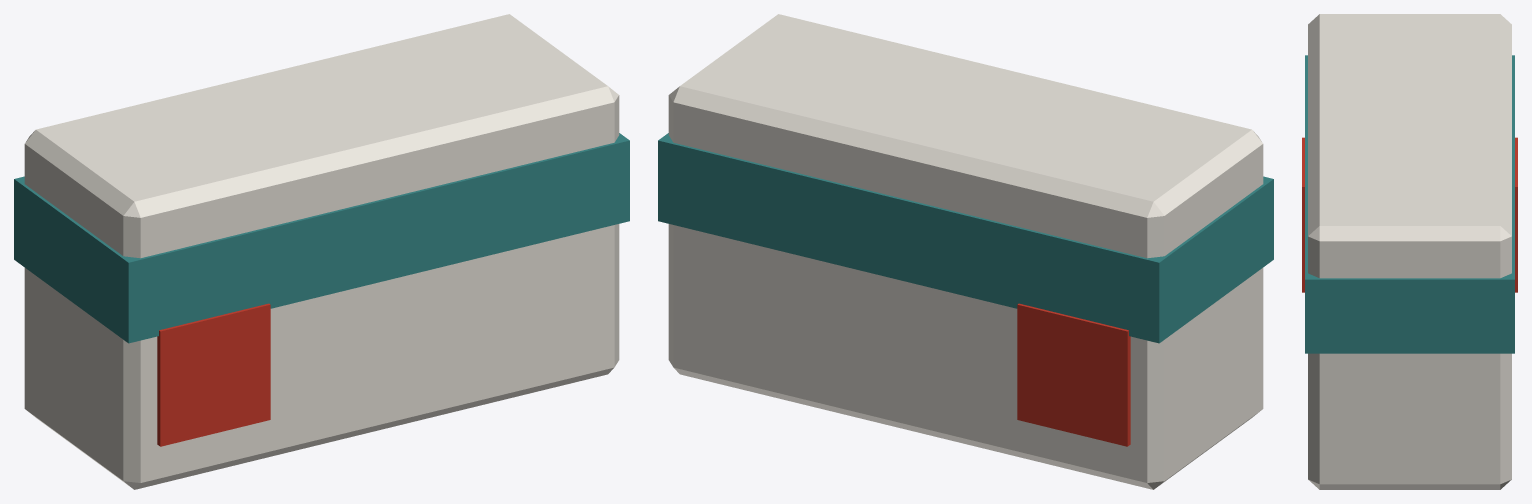
The model's file is antibiotics.glb.
3 views of the same model, side by side, from view 1: azimuth 30°, elevation 25°; view 2: azimuth 150°, elevation 25°; view 3: azimuth 270°, elevation 25° (orthographic). The views are drawn at different scales.
Visible parts, largest first — view 1: Item; view 2: Item; view 3: Item.
Boxes of the visible parts, x1,y1,x2,y2 form: Item: (14, 14, 629, 489); Item: (658, 14, 1273, 489); Item: (1302, 14, 1517, 489).
Size of the model in its own units: 0.091 by 0.05 by 0.037.
